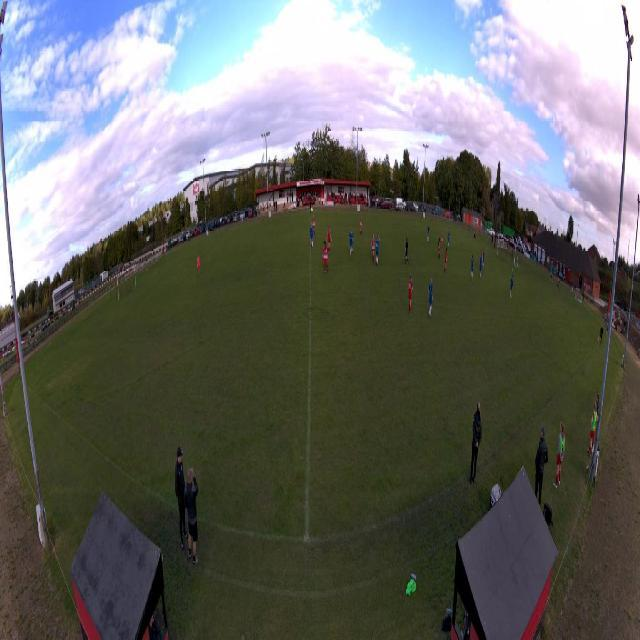ball: (512, 268, 513, 272)
player: (407, 273, 414, 319), (322, 240, 330, 275), (427, 276, 433, 320), (326, 224, 333, 255), (375, 234, 381, 268), (348, 226, 354, 258), (371, 233, 376, 264), (405, 236, 410, 267), (443, 247, 448, 275), (309, 223, 314, 249), (311, 213, 316, 237), (470, 254, 474, 280), (510, 273, 514, 299), (197, 253, 201, 278), (479, 255, 483, 279), (359, 215, 363, 236), (426, 222, 430, 242), (447, 230, 451, 249), (515, 255, 519, 274), (438, 237, 441, 261), (441, 231, 444, 252), (483, 248, 486, 269), (481, 249, 484, 269)
